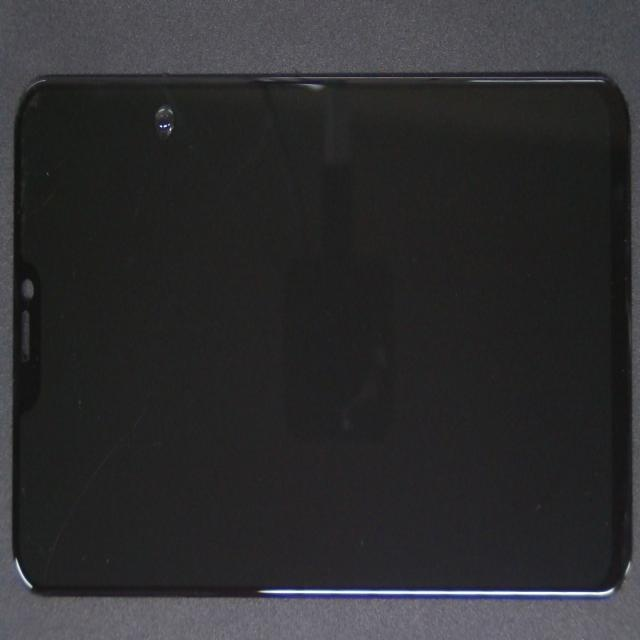oil: (88, 31, 233, 159)
